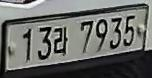1: (20, 27, 35, 64)
3: (37, 25, 53, 60), (109, 16, 123, 50)
5: (123, 14, 137, 47)
7: (78, 20, 94, 52)
9: (94, 18, 108, 53)
라: (52, 26, 70, 57)
